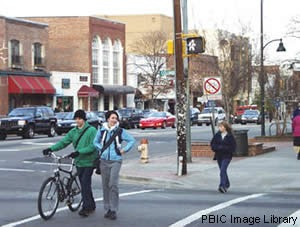crosswalk: (18, 189, 260, 225)
pedestrian_walk: (186, 38, 205, 53)
person: (43, 109, 135, 219), (210, 122, 235, 191), (293, 114, 299, 145)
pole: (259, 0, 285, 135), (172, 0, 188, 174)
